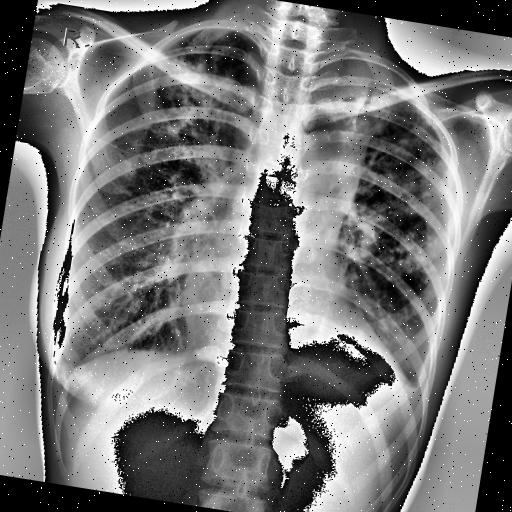1- Atelectasis: (304, 46, 414, 126)
10- Pleural effusion: (40, 350, 87, 401), (390, 368, 430, 416), (44, 342, 88, 384), (402, 366, 427, 404)
11- Pleural thickening: (296, 54, 382, 168), (310, 46, 416, 122), (40, 350, 87, 401), (390, 368, 430, 416), (44, 342, 88, 384), (402, 366, 427, 404)
13- Pulmonary fibrosis: (324, 87, 468, 300), (141, 24, 244, 140), (146, 36, 252, 142)
6- Infiltration: (324, 87, 468, 300), (354, 90, 468, 260), (146, 36, 252, 142)
7- Lung Opacity: (341, 102, 471, 287), (354, 90, 468, 260), (141, 24, 244, 140), (143, 30, 234, 144), (296, 54, 382, 168)
